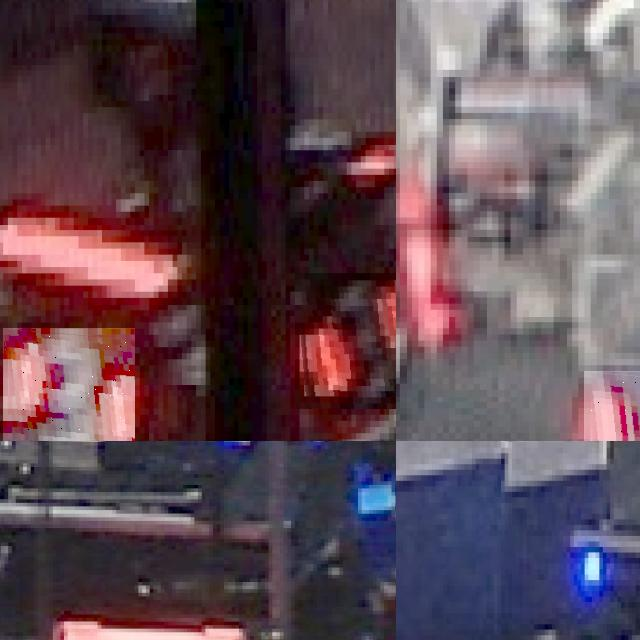R3: (3, 328, 135, 441), (295, 273, 396, 408)
